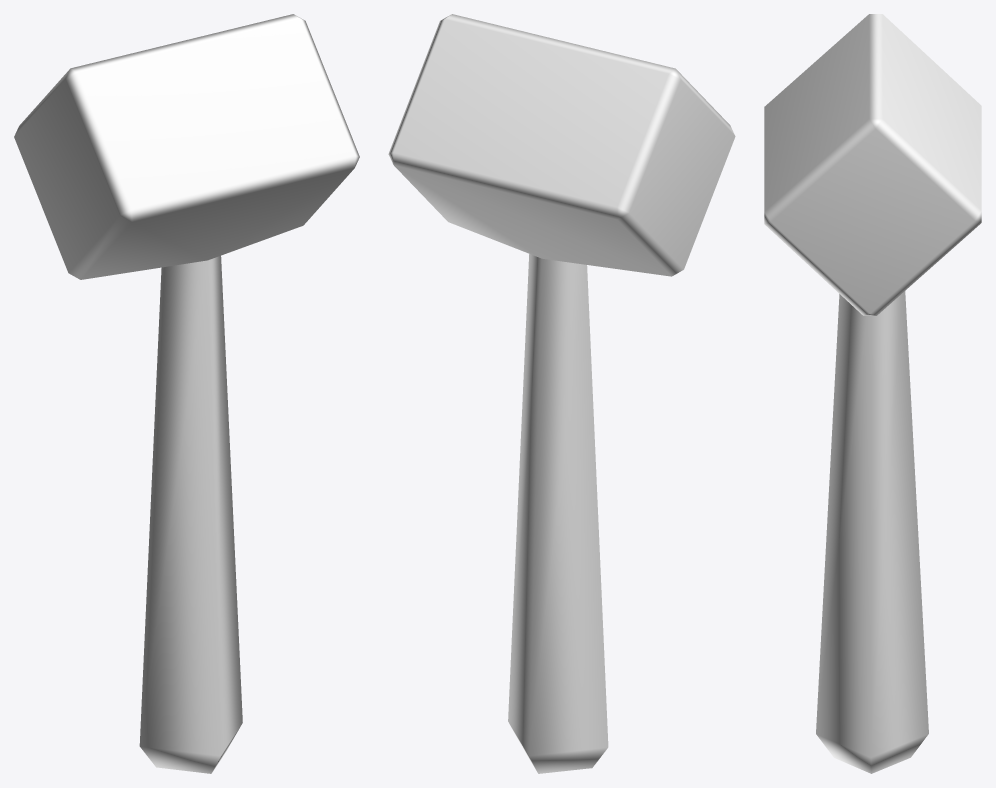
The model's file is PropHammer_01.glb.
3 renders of one model, left to right at view 1: azimuth 30°, elevation 25°; view 2: azimuth 150°, elevation 25°; view 3: azimuth 270°, elevation 25°, orthographic. The views are drawn at different scales.
Visible parts, largest first — view 1: PropHammer_01; view 2: PropHammer_01; view 3: PropHammer_01.
Boxes of the visible parts, <box> form: PropHammer_01: <box>14,14,359,773</box>; PropHammer_01: <box>388,14,735,773</box>; PropHammer_01: <box>764,14,981,773</box>.
Size of the model in its own units: 0.3786 by 1.08 by 0.3081.
1 material, 1 textured.
